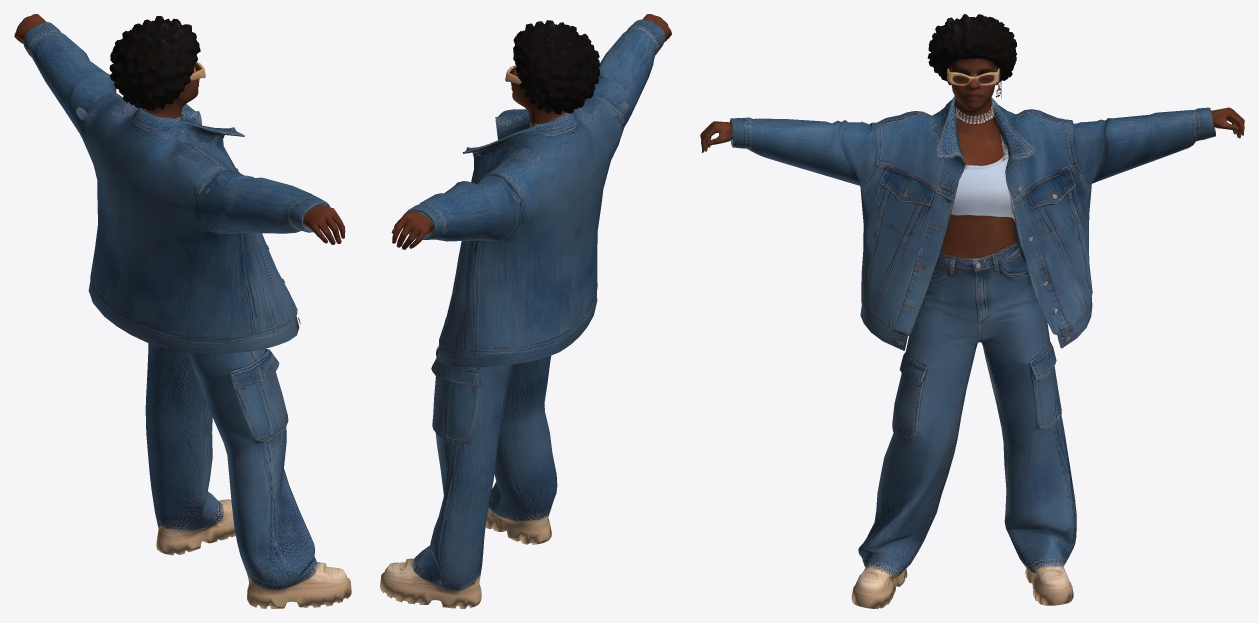
Rendered from fashionmodel3dmodel4.glb.
3 views of the same model, side by side, from view 1: azimuth 30°, elevation 25°; view 2: azimuth 150°, elevation 25°; view 3: azimuth 270°, elevation 25° (orthographic). The views are drawn at different scales.
Parts seen in each view (by area): view 1: tripo_node_3aa4ca19-97cf-47fa-9cf2-eadad2cfa854; view 2: tripo_node_3aa4ca19-97cf-47fa-9cf2-eadad2cfa854; view 3: tripo_node_3aa4ca19-97cf-47fa-9cf2-eadad2cfa854.
Part boxes in pixels (x1,y1,x2,y2): tripo_node_3aa4ca19-97cf-47fa-9cf2-eadad2cfa854: (14, 14, 351, 608); tripo_node_3aa4ca19-97cf-47fa-9cf2-eadad2cfa854: (380, 14, 671, 608); tripo_node_3aa4ca19-97cf-47fa-9cf2-eadad2cfa854: (700, 14, 1244, 608).
Bounding box in the file's own units: 0.3296 × 0.9995 × 0.9214.
Materials: 1 (1 with a texture image).
